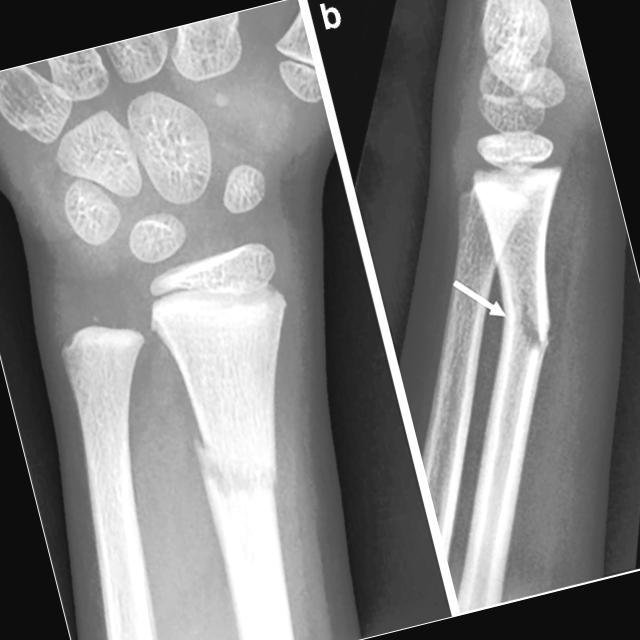GreenStick Fracture: (193, 425, 290, 512), (502, 286, 564, 356)
